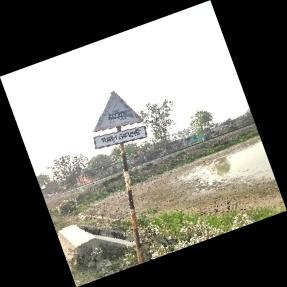Rail-crossing: (93, 92, 145, 150)
